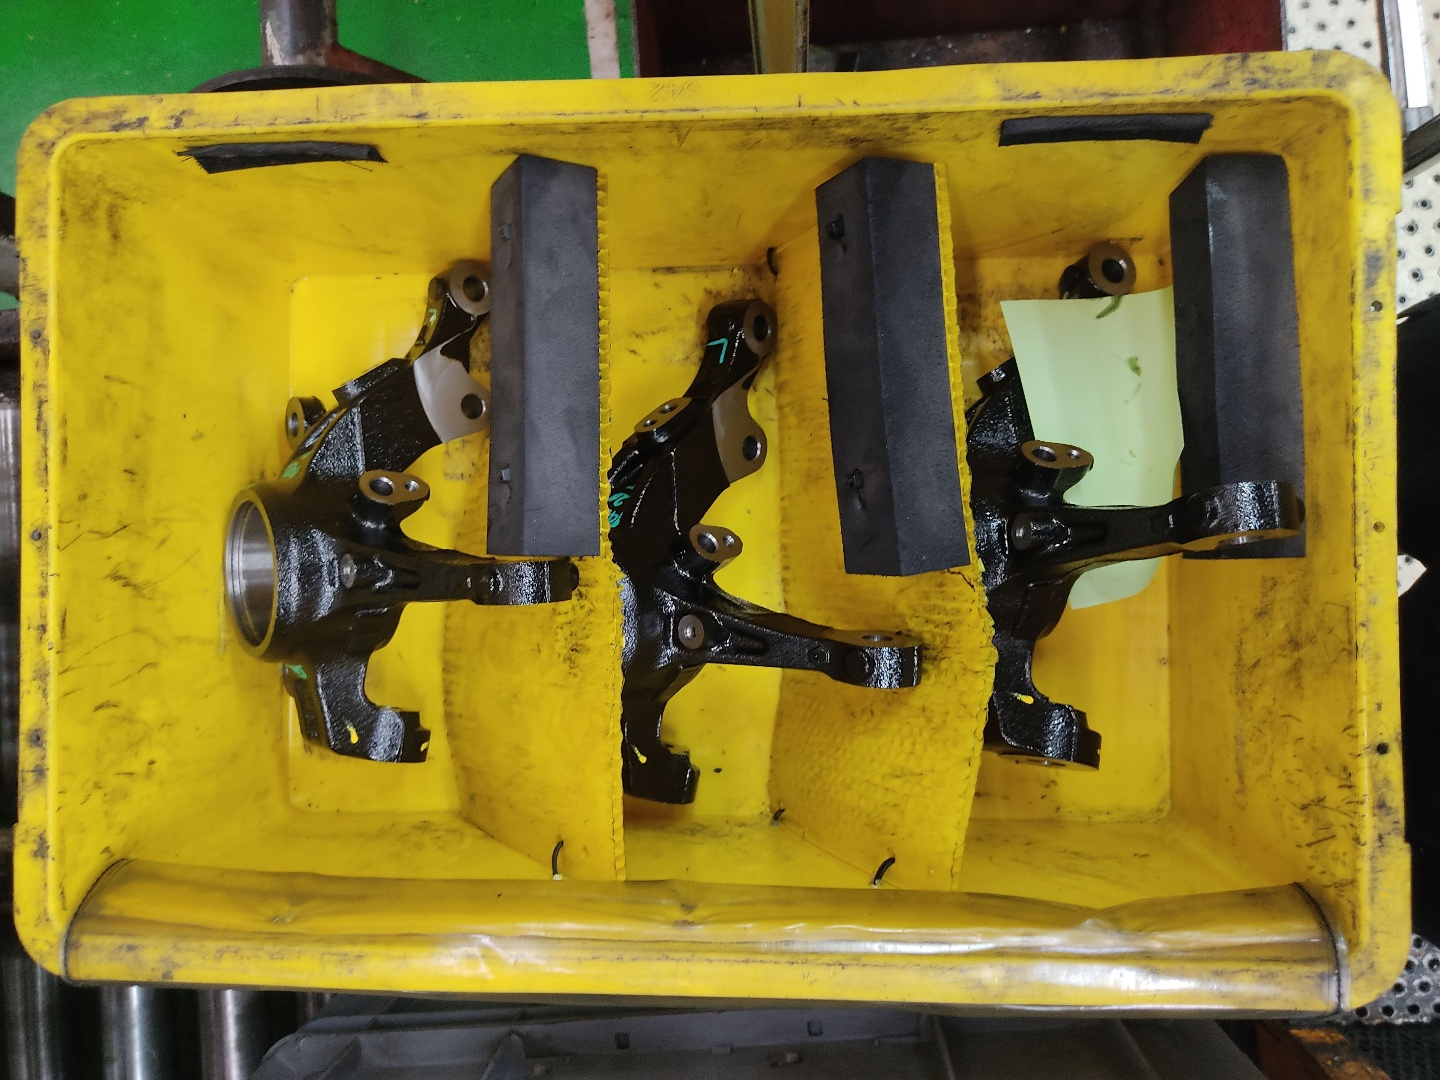abs-lh: (212, 252, 585, 774), (967, 238, 1307, 781), (594, 285, 940, 816)
